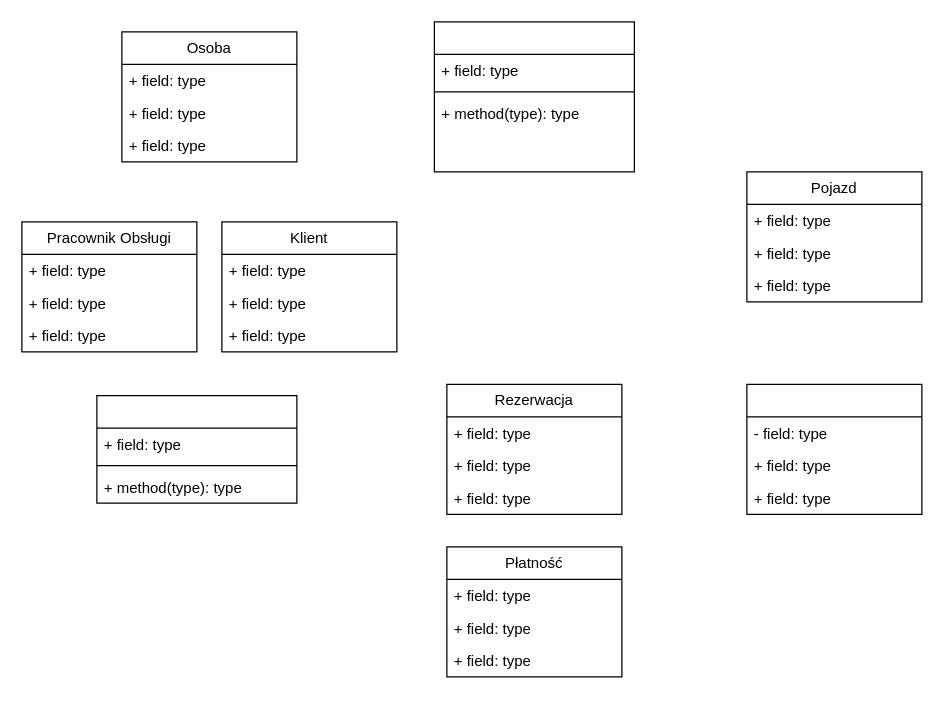
Image size: 944x703. Some labels were removed from this diagram. Here are the shapes that lost their labels. From the top down, the box of each, then its label:
(433, 21, 634, 172): System rezerwacji
(96, 394, 297, 503): Konto
(746, 383, 922, 514): PozycjaPojazdu
